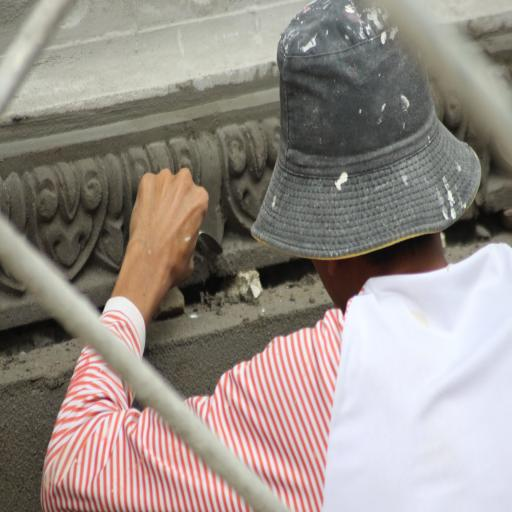la: (22, 150, 111, 284), (220, 124, 275, 228)
